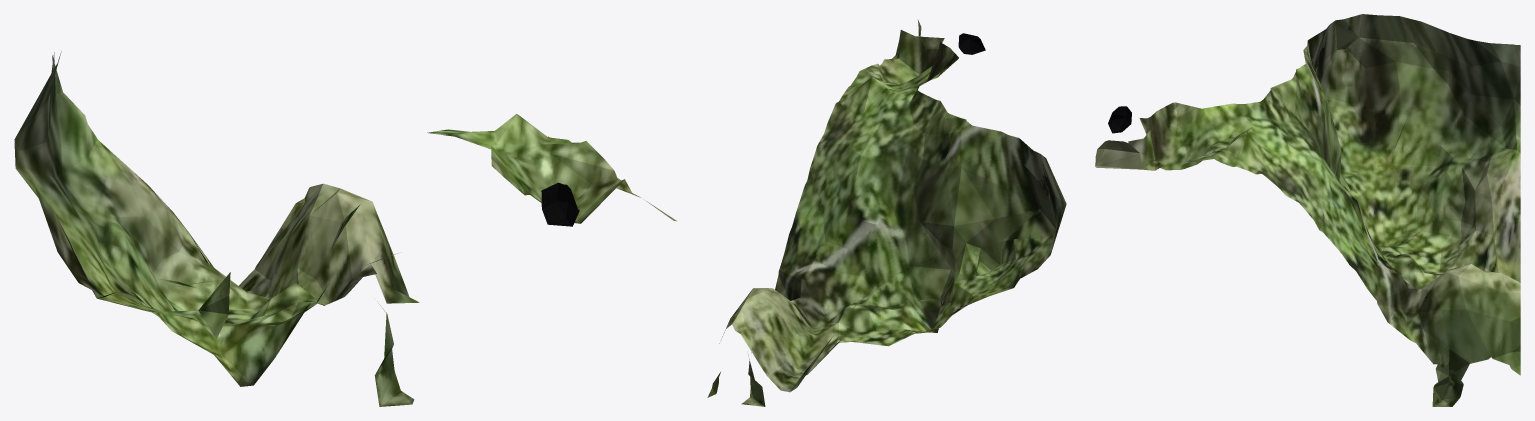
3 views of the same model, side by side, from view 1: azimuth 30°, elevation 25°; view 2: azimuth 150°, elevation 25°; view 3: azimuth 270°, elevation 25° (orthographic). The views are drawn at different scales.
Size of the model in its own units: 1.73 by 1.63 by 2.34.
Materials: 2 (2 with a texture image).
